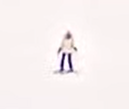skier: (51, 27, 82, 77)
